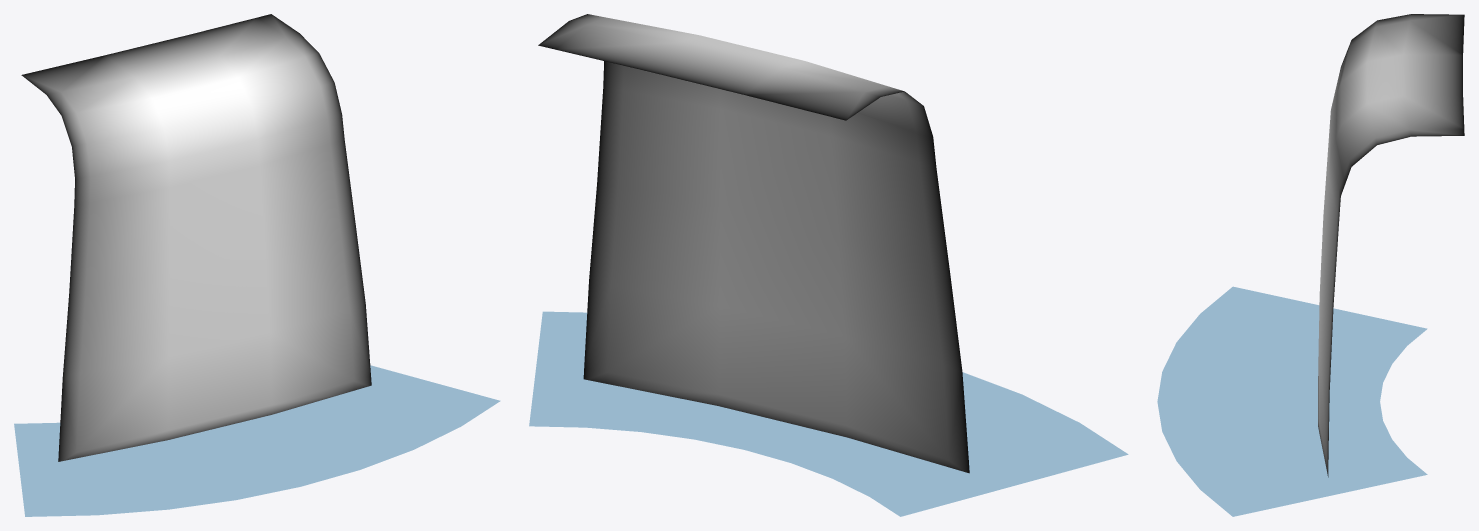
The model's file is SM_Waterfall6.fbx.
The picture shows the model from 3 angles, left to right: view 1: azimuth 30°, elevation 25°; view 2: azimuth 150°, elevation 25°; view 3: azimuth 270°, elevation 25°; orthographic projection. The views are drawn at different scales.
Visible parts, largest first — view 1: SM_Waterfall6; view 2: SM_Waterfall6; view 3: SM_Waterfall6.
Boxes of the visible parts, x1=… form: SM_Waterfall6: x1=14, y1=14, x2=500, y2=516; SM_Waterfall6: x1=529, y1=14, x2=1128, y2=516; SM_Waterfall6: x1=1157, y1=14, x2=1464, y2=516.
Size of the model in its own units: 2736 by 1816 by 1541.
